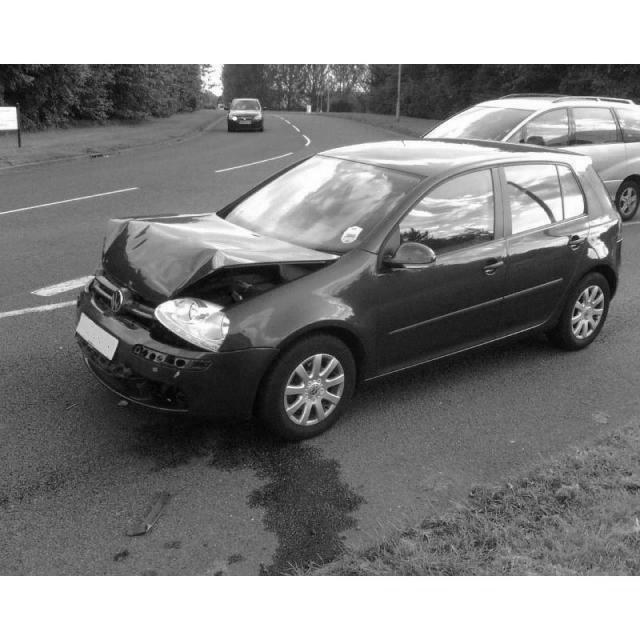Headlight-damage: (157, 292, 239, 360)
bonnet-dent: (100, 216, 304, 302)
